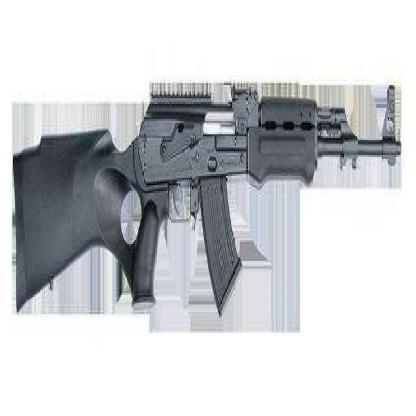rifle: (12, 47, 406, 333)
